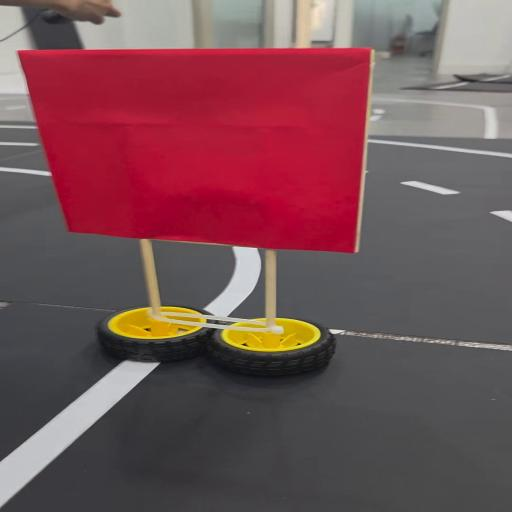Sign_A: (18, 41, 392, 381)
